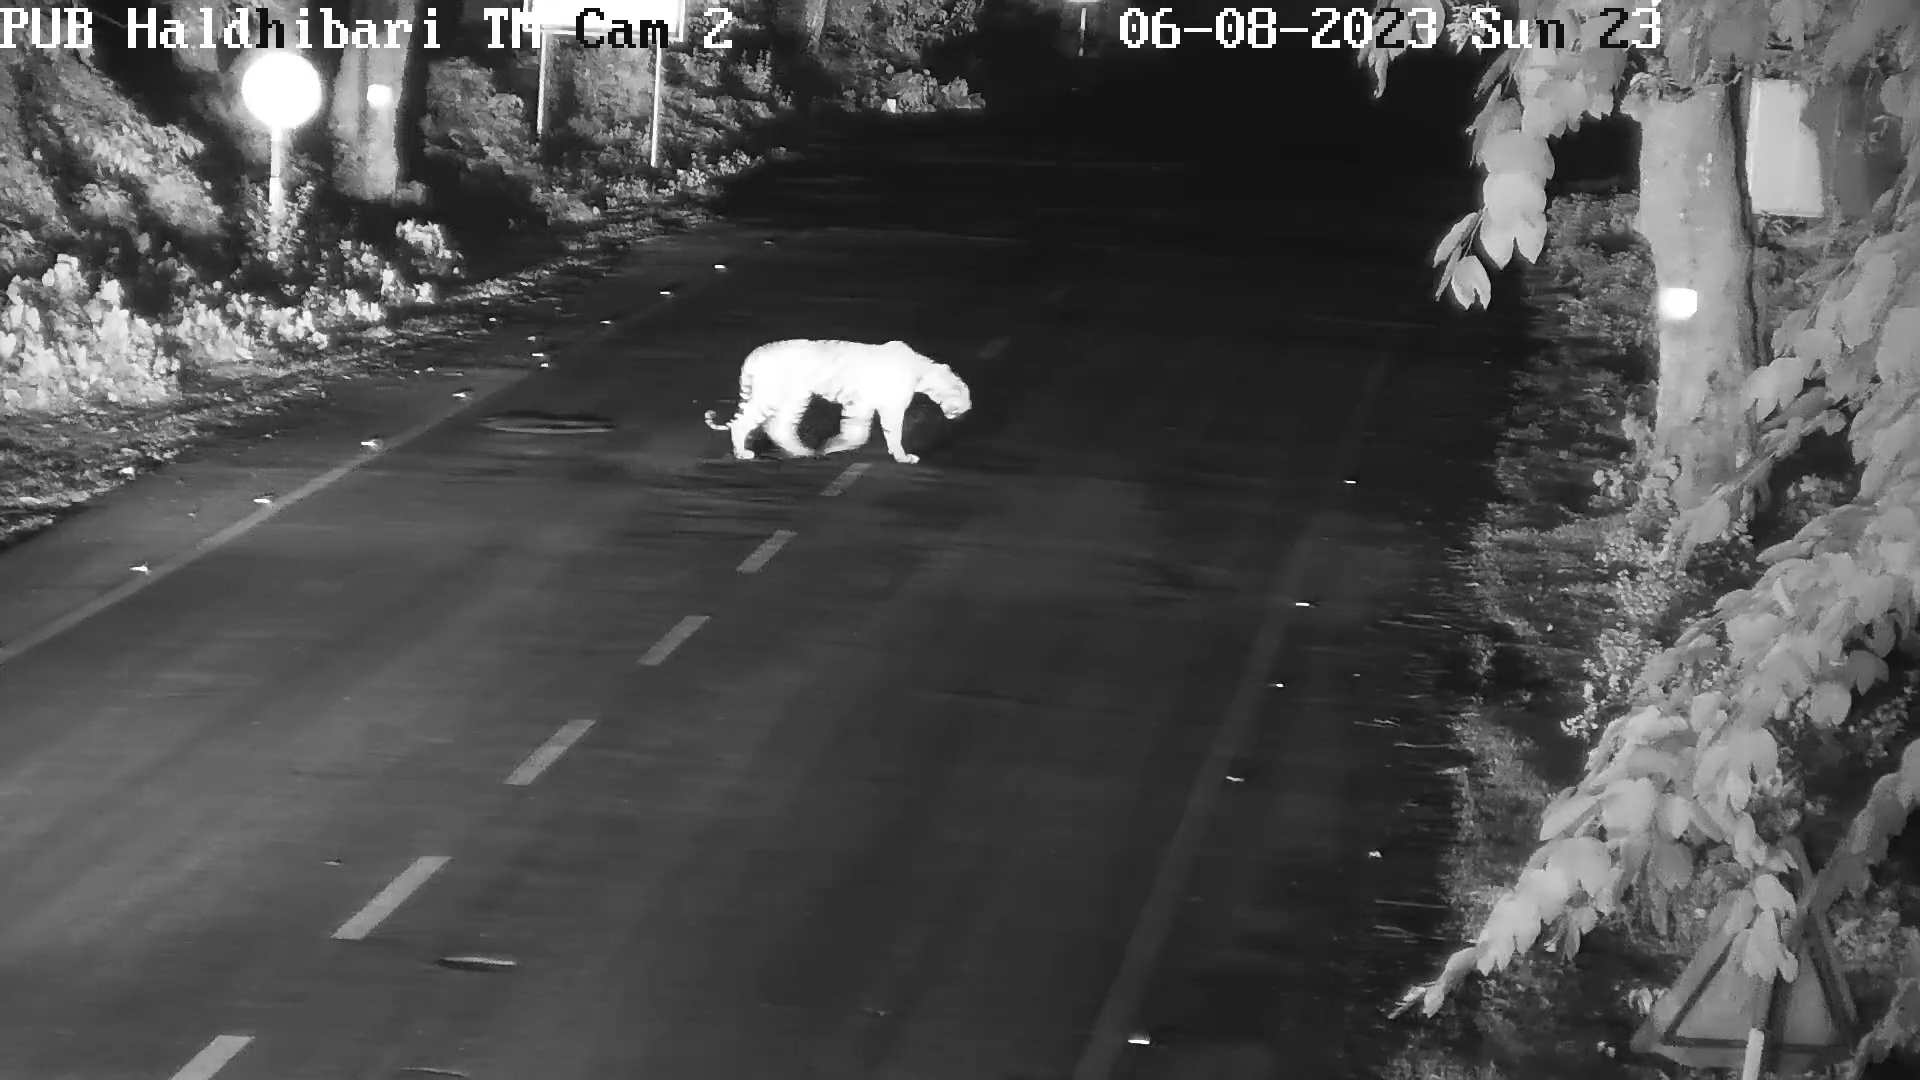tigers: (705, 331, 973, 477)
